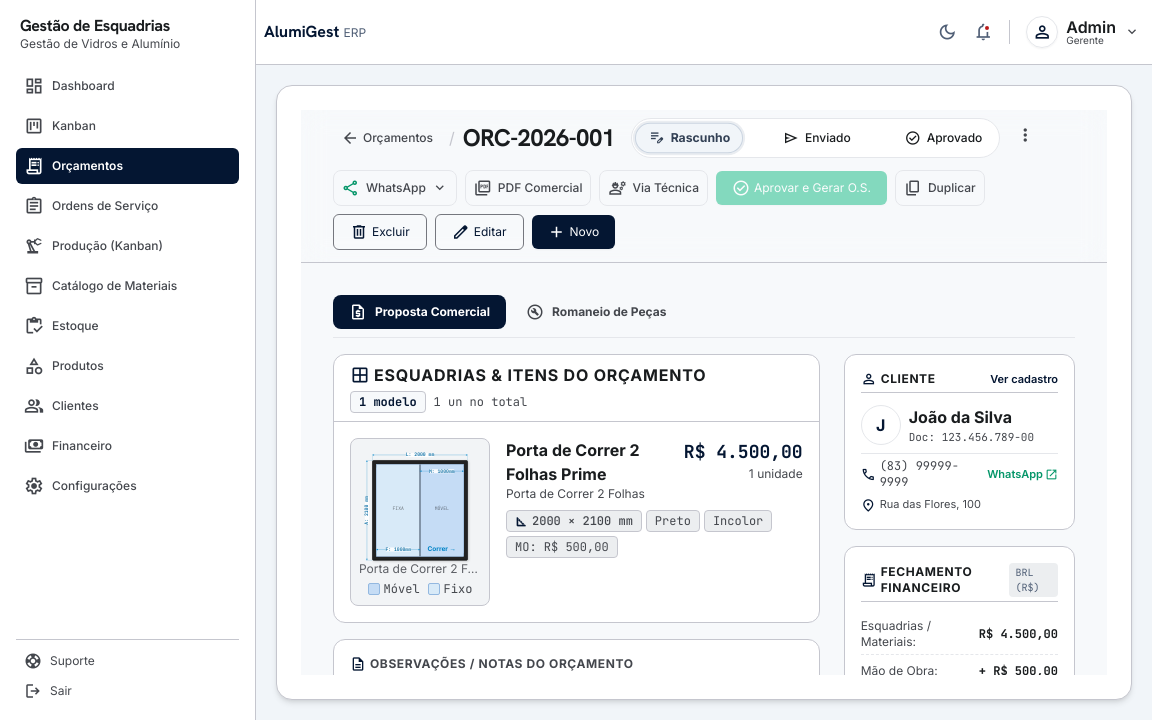
Test: Integridade das Rotas de Orçamentos (AppRoutes) › Fluxos de navegação integrada entre rotas › deve navegar de /orcamentos/:id para /orcamentos/:id/editar ao clicar no botão "Editar"
This screenshot has width=1152, height=720.
Click the button "Editar": coordinates (479, 232) top-left (435, 214), bottom-right (524, 250)
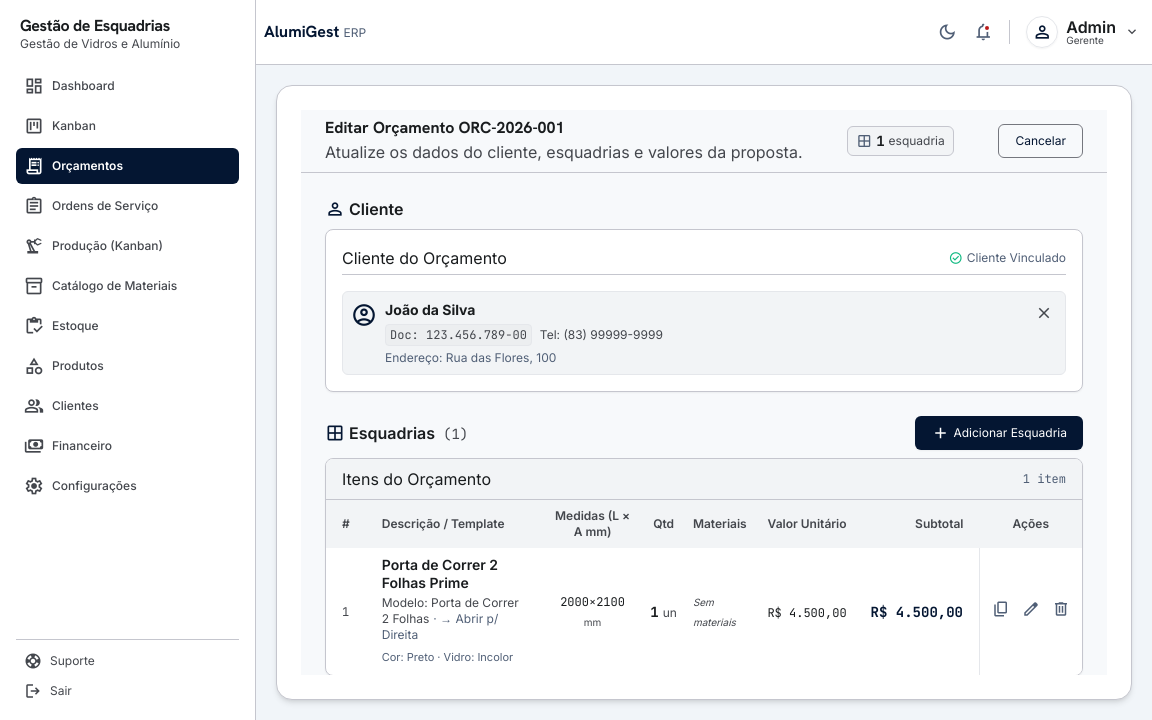
Expected: the heading "Editar Orçamento ORC-2026-001" is shown, top-left (325, 117), bottom-right (564, 138)
